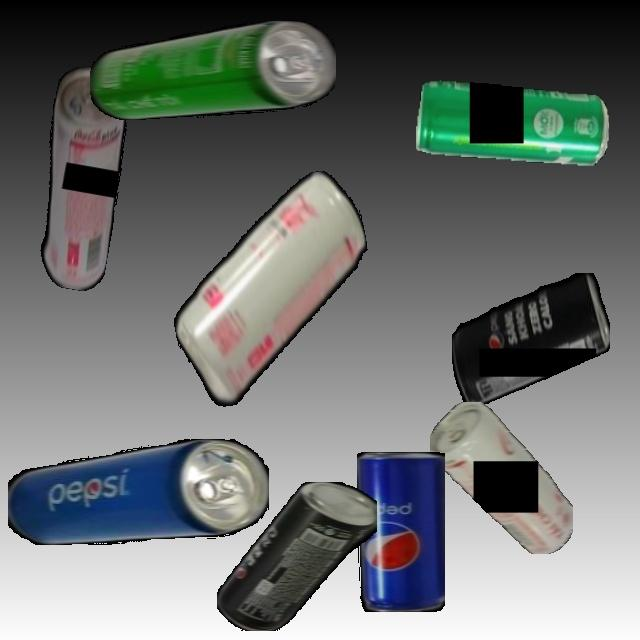debris: (153, 166, 390, 412), (7, 439, 269, 545), (23, 62, 139, 294), (89, 20, 336, 120), (217, 481, 377, 631), (429, 402, 573, 554), (451, 272, 610, 404), (415, 79, 609, 166), (357, 451, 445, 612)
